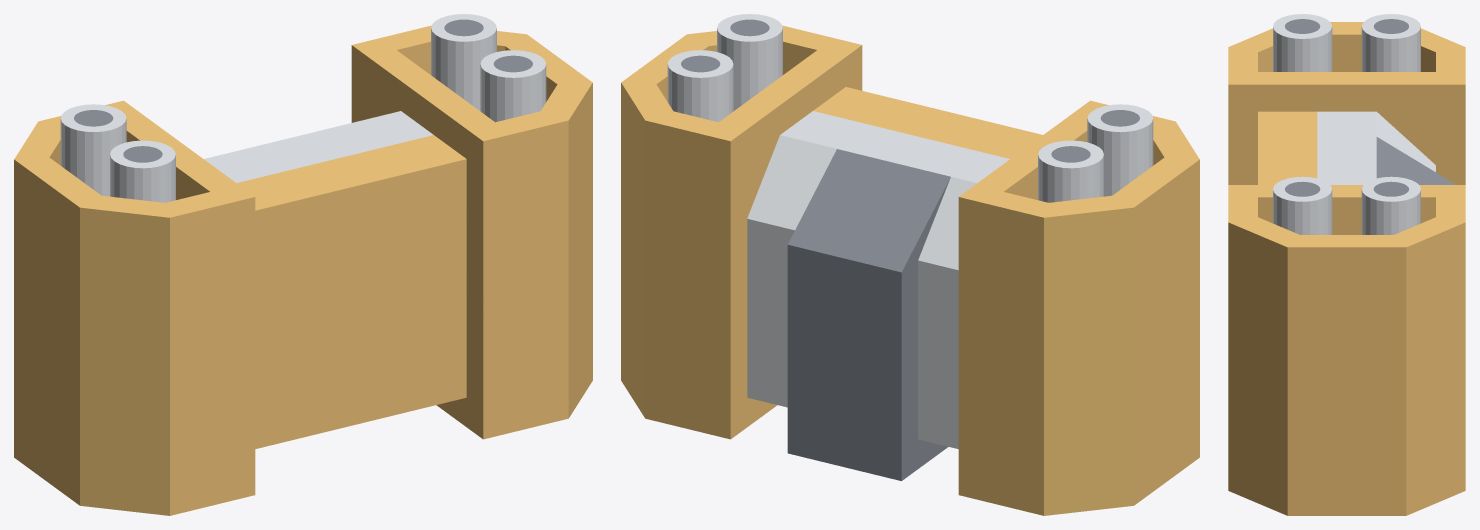
The model's file is turret.glb.
The picture shows the model from 3 angles, left to right: view 1: azimuth 30°, elevation 25°; view 2: azimuth 150°, elevation 25°; view 3: azimuth 270°, elevation 25°; orthographic projection. The views are drawn at different scales.
Parts seen in each view (by area): view 1: turret; view 2: turret; view 3: turret.
Part boxes in pixels (x1,y1,x2,y2): turret: (14,14,592,515); turret: (621,14,1199,515); turret: (1228,14,1465,515).
Size of the model in its own units: 0.9 by 0.55 by 0.4.
